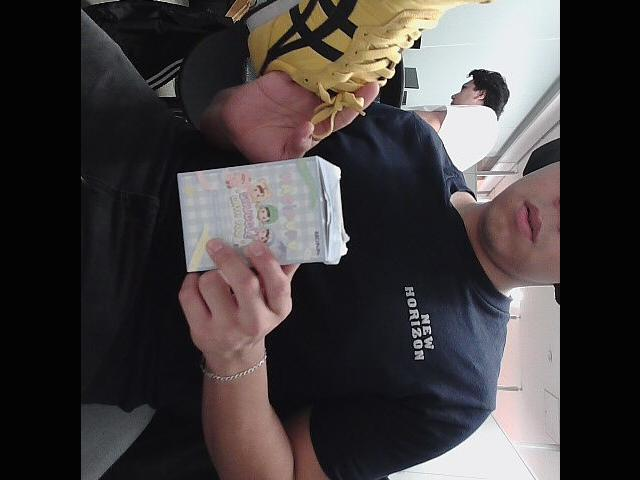Blind_box: (172, 156, 346, 274)
Shoes: (241, 0, 519, 103)
